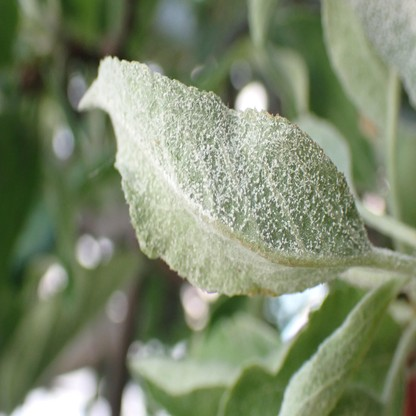powder: (78, 55, 371, 297), (350, 1, 416, 104)
